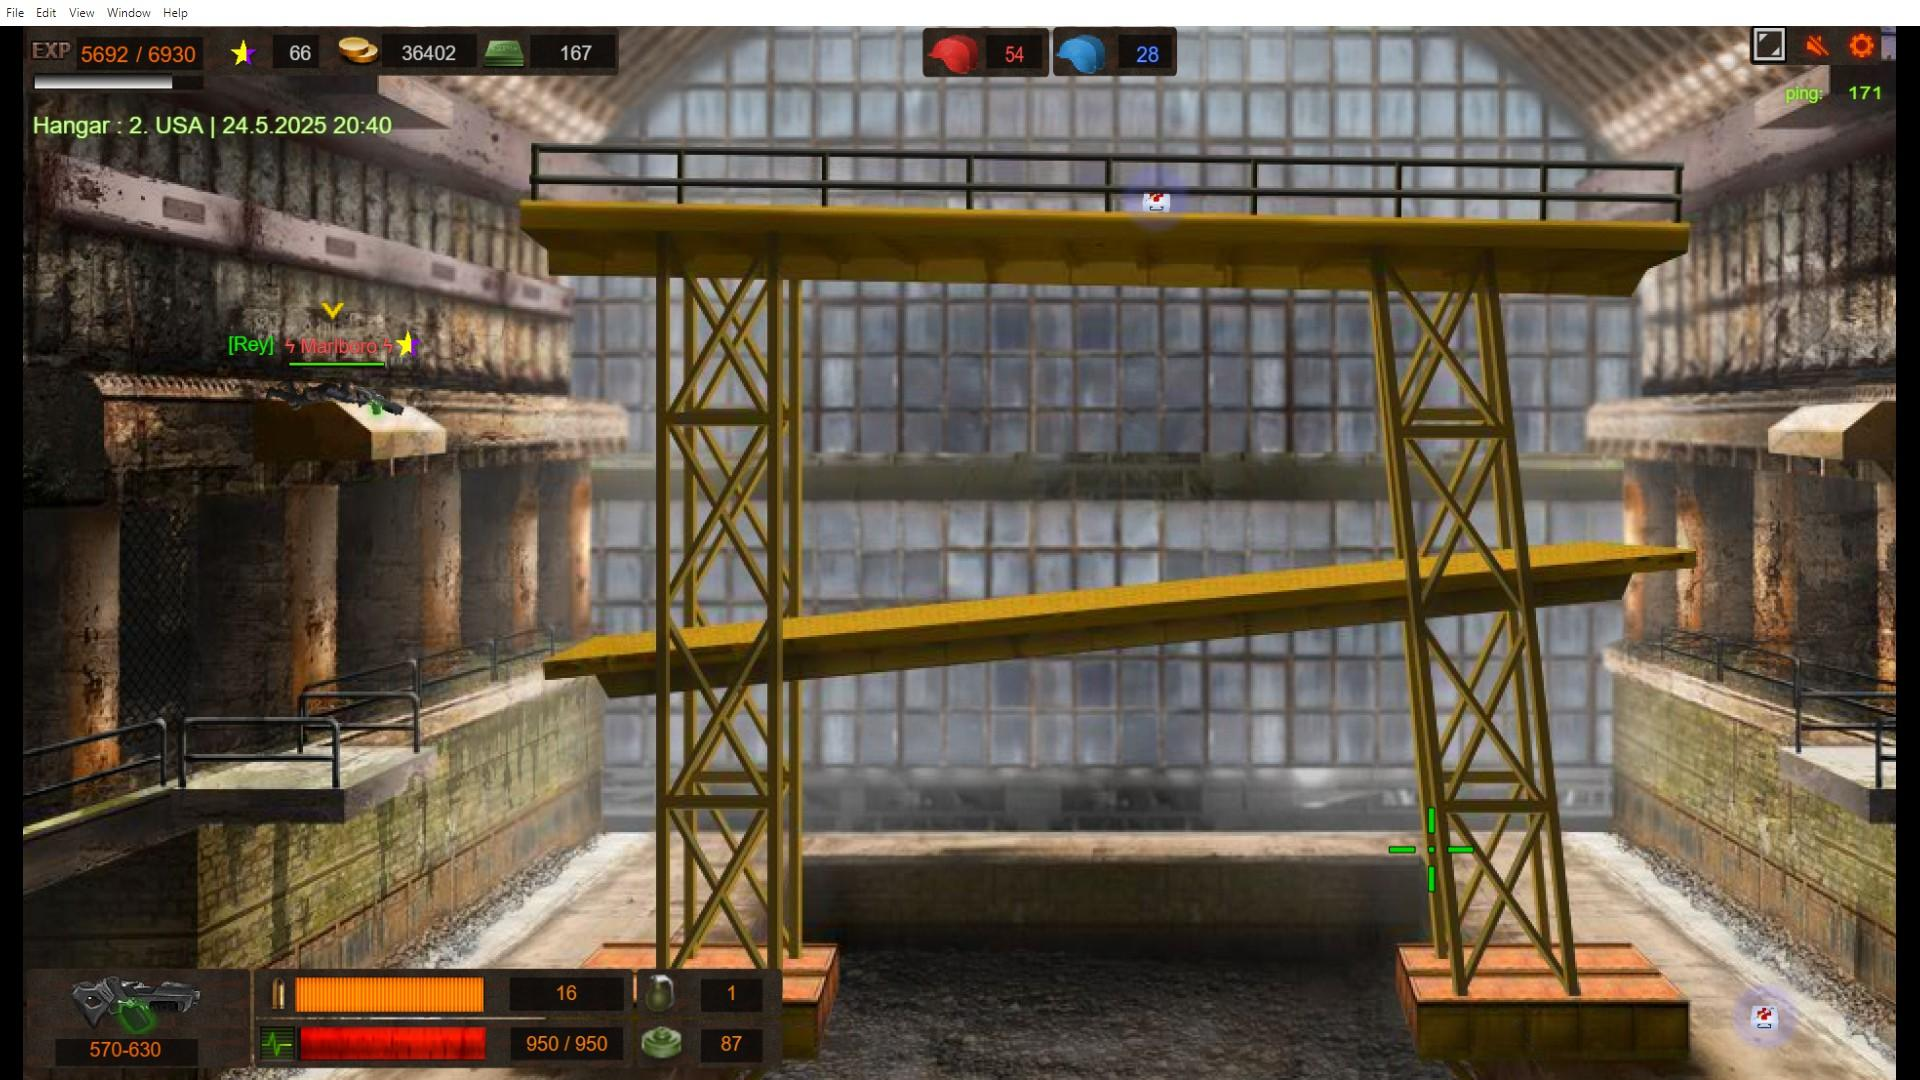enemy: (266, 375, 371, 407)
